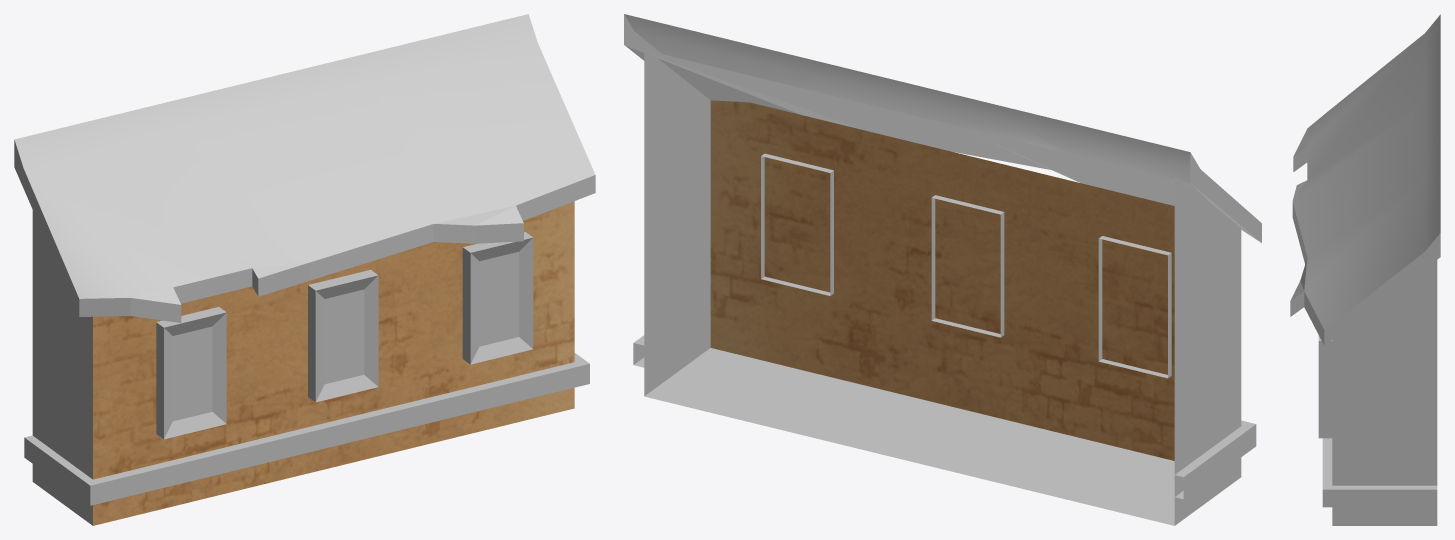
File: Window_02.fbx
The picture shows the model from 3 angles, left to right: view 1: azimuth 30°, elevation 25°; view 2: azimuth 150°, elevation 25°; view 3: azimuth 270°, elevation 25°; orthographic projection. The views are drawn at different scales.
Visible parts, largest first — view 1: Window_02; view 2: Window_02; view 3: Window_02.
Part boxes in pixels (bbox=[...]): Window_02: bbox=[14, 14, 595, 525]; Window_02: bbox=[624, 14, 1261, 525]; Window_02: bbox=[1290, 14, 1440, 525].
Size of the model in its own units: 82.12 by 52.62 by 23.91.
